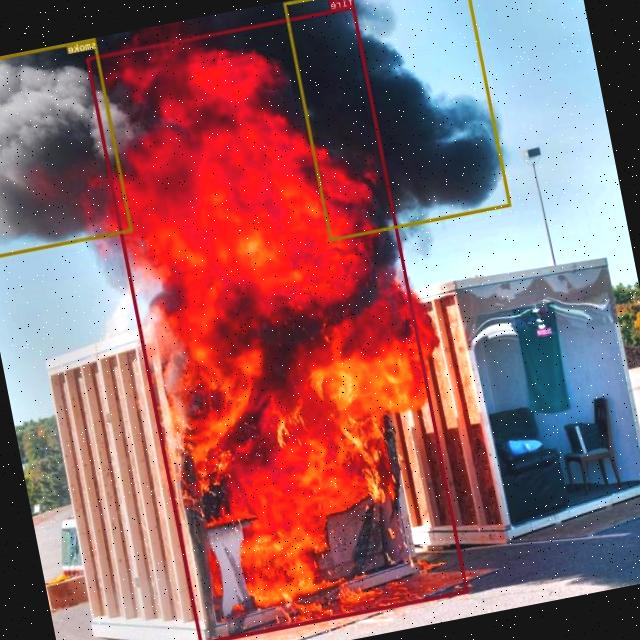fire: (87, 5, 469, 640)
smoke: (284, 0, 512, 241), (0, 37, 133, 258)
